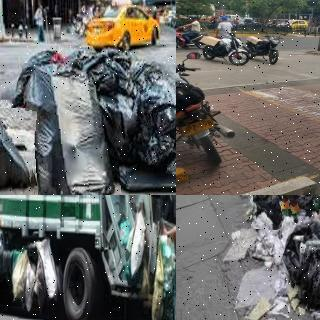Garbage: (24, 58, 119, 195), (125, 73, 176, 172), (0, 106, 35, 195), (293, 247, 320, 313), (252, 195, 282, 229)
